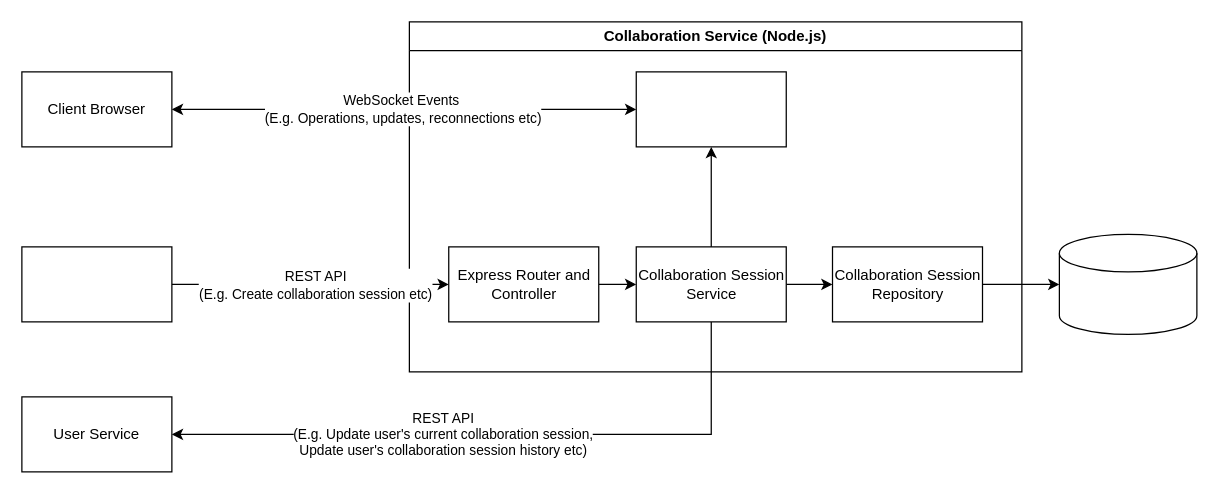
Some shapes in this 1219 by 494 pixel diagram are drawn without their labels. The shapes that lost their labels are listed below. From the top down, each one's centre as x and y in pixels, then its label:
At pixel 710 109: "Socket.IO Manager".
At pixel 96 284: "Matching Service".
At pixel 1127 283: "MongoDB Matching Service Collection".
